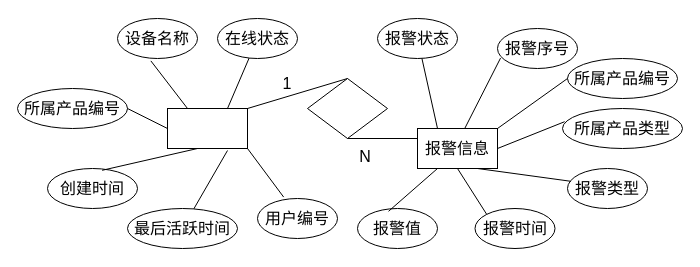
Some shapes in this 700 by 267 pixel diagram are drawn without their labels. The shapes that lost their labels are listed below. From the top down, each one's centre as x and y in pixels, then its label:
(207,128): 设备
(347,108): 触发
